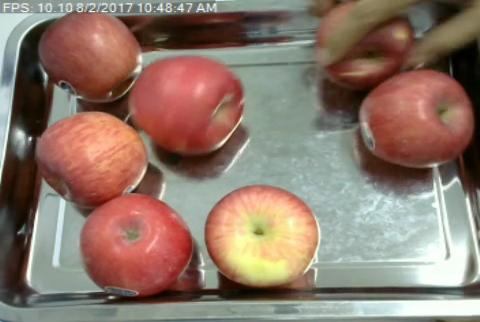apple: (205, 185, 320, 286), (81, 195, 192, 298), (360, 71, 475, 169), (131, 55, 243, 155), (36, 111, 146, 208), (37, 12, 139, 104)
